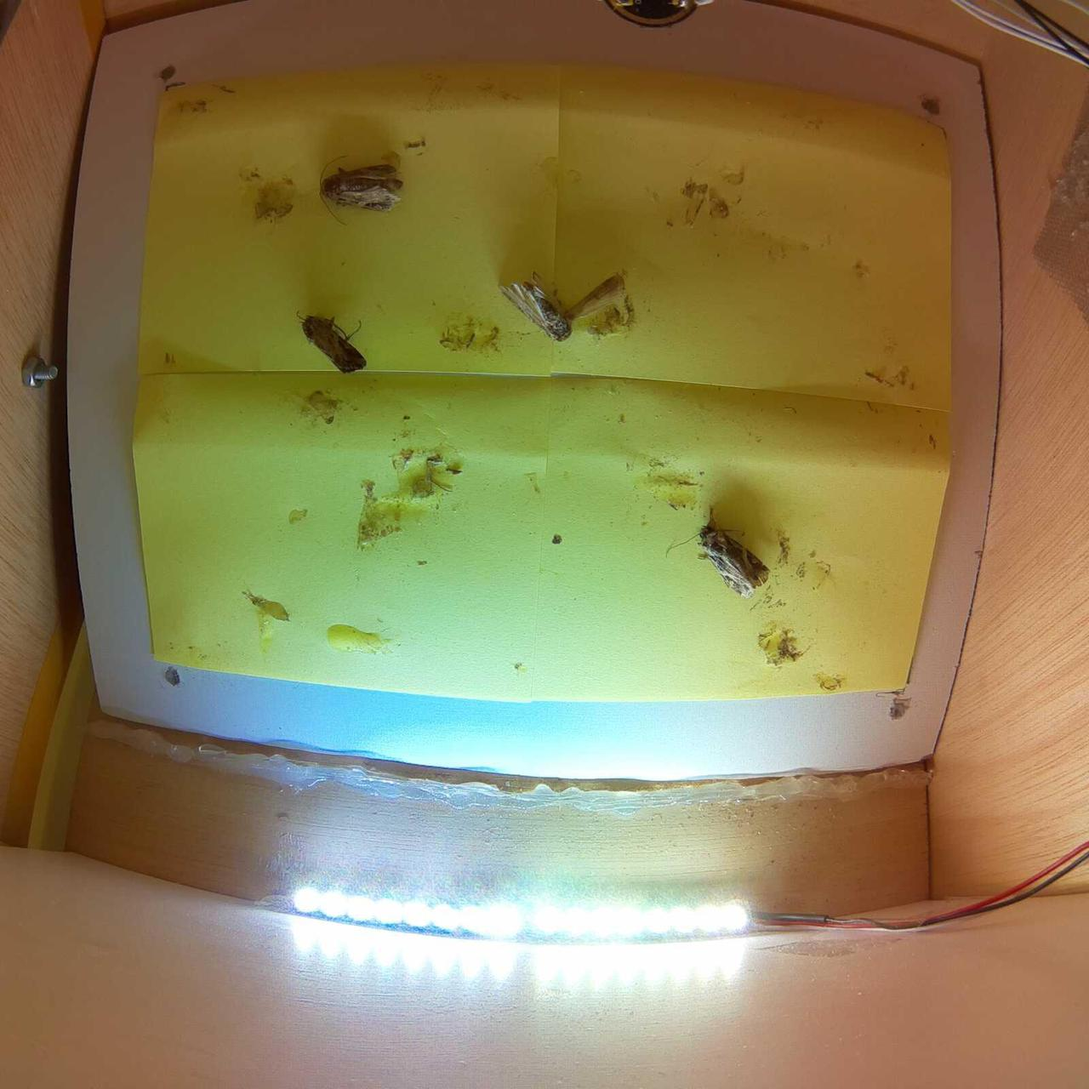Spodoptera litura: (495, 276, 625, 341), (666, 525, 773, 600), (320, 156, 403, 225), (295, 310, 368, 374)
